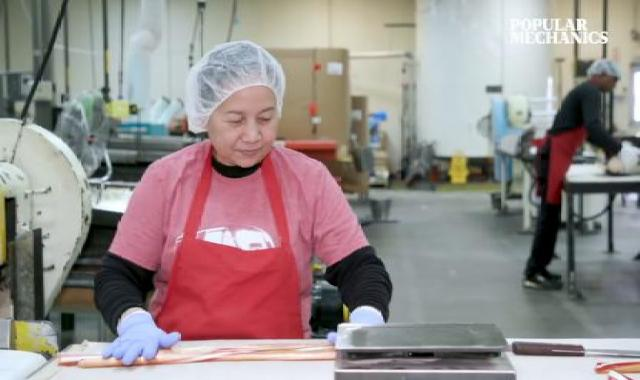hairnet: (182, 40, 295, 134), (580, 54, 625, 93)
